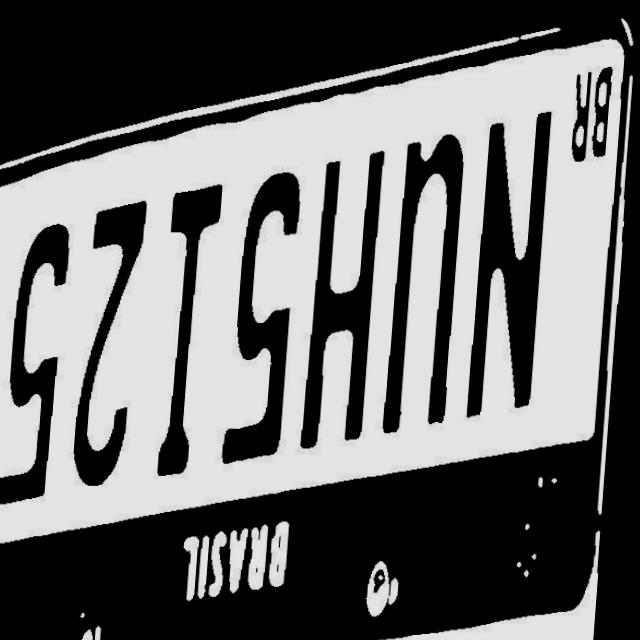2: (63, 195, 161, 506)
5: (217, 170, 311, 482), (0, 224, 78, 519)
h: (299, 149, 396, 462)
i: (147, 180, 232, 493)
n: (460, 93, 559, 428)
u: (379, 120, 477, 449)
